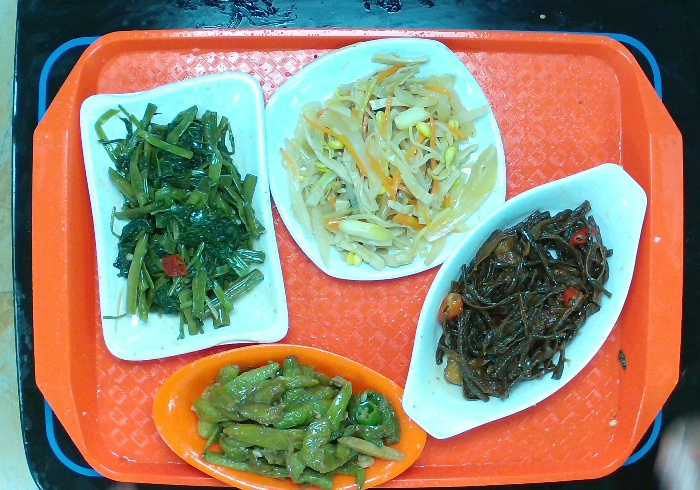RJxy-Ju_Huang_Tuo_Yuan: (145, 337, 425, 490)
RJxy-Si_Fang_Ao_Bian_Wan: (77, 73, 293, 368)
RJxy-Si_Fang_Die: (266, 36, 507, 285)
RJxy-Yu_Pan: (404, 150, 651, 434)
